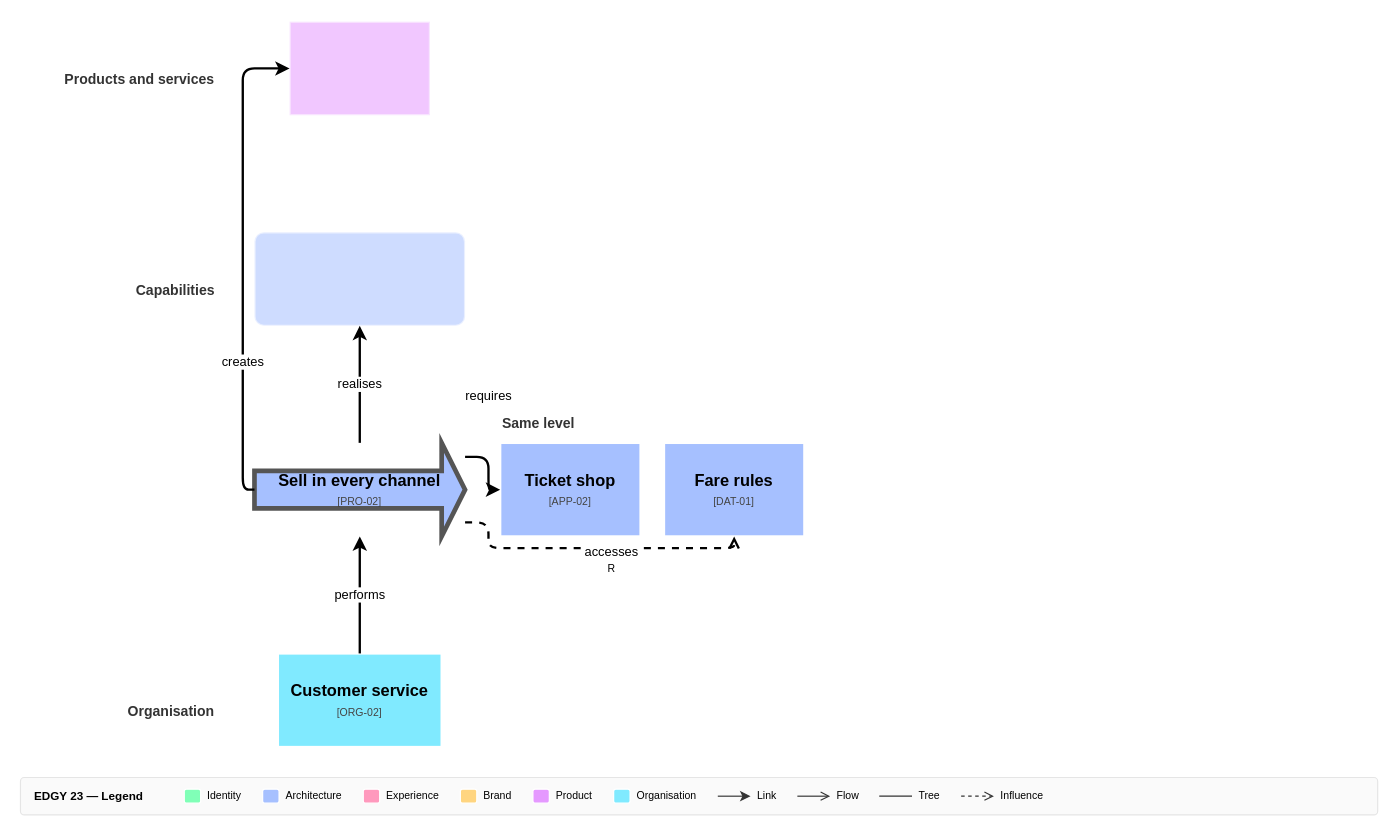
This 1398x835 diagram has some shape labels left out. Each missing label, with the box of its shape:
Sales in every channel [CAP-02]: (253, 230, 466, 326)
Season pass [PRD-01]: (288, 20, 431, 116)
